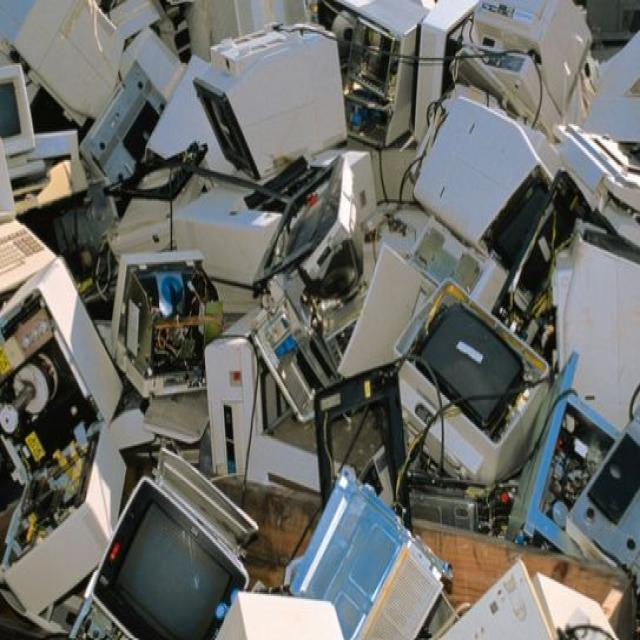electronic: (58, 438, 286, 640), (374, 271, 566, 510), (231, 128, 391, 362), (409, 69, 558, 285), (170, 26, 371, 176), (88, 220, 235, 418), (0, 42, 79, 208)
